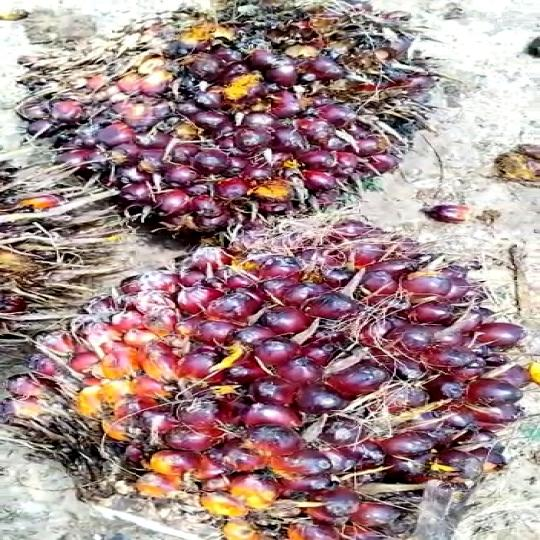masak: (27, 207, 540, 540), (12, 0, 450, 236)
